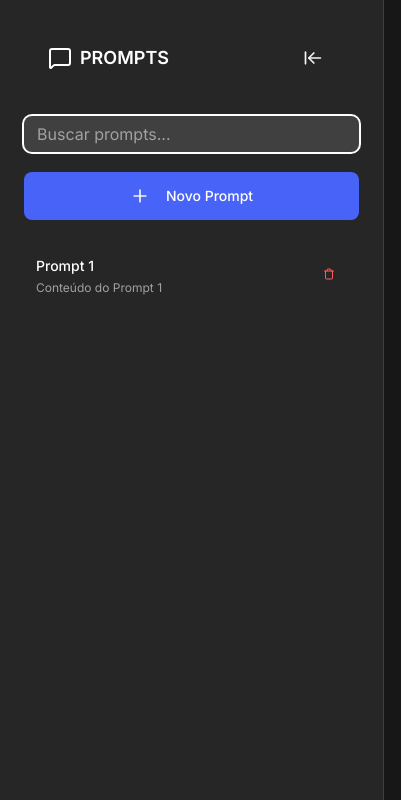
Test: Sidebar content › Collapse / expand sidebar › should Display the "Create a new prompt" button in the minimized sidebar.
The image size is (401, 800).
Click the button named "Minimizar menu". click: (313, 58)
box: left=291, top=40, right=335, bottom=76
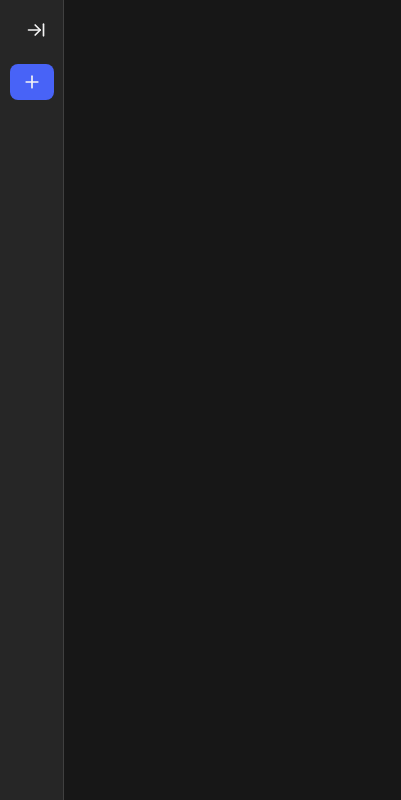
Now the button named "novo prompt" is shown, box left=10, top=64, right=54, bottom=100
